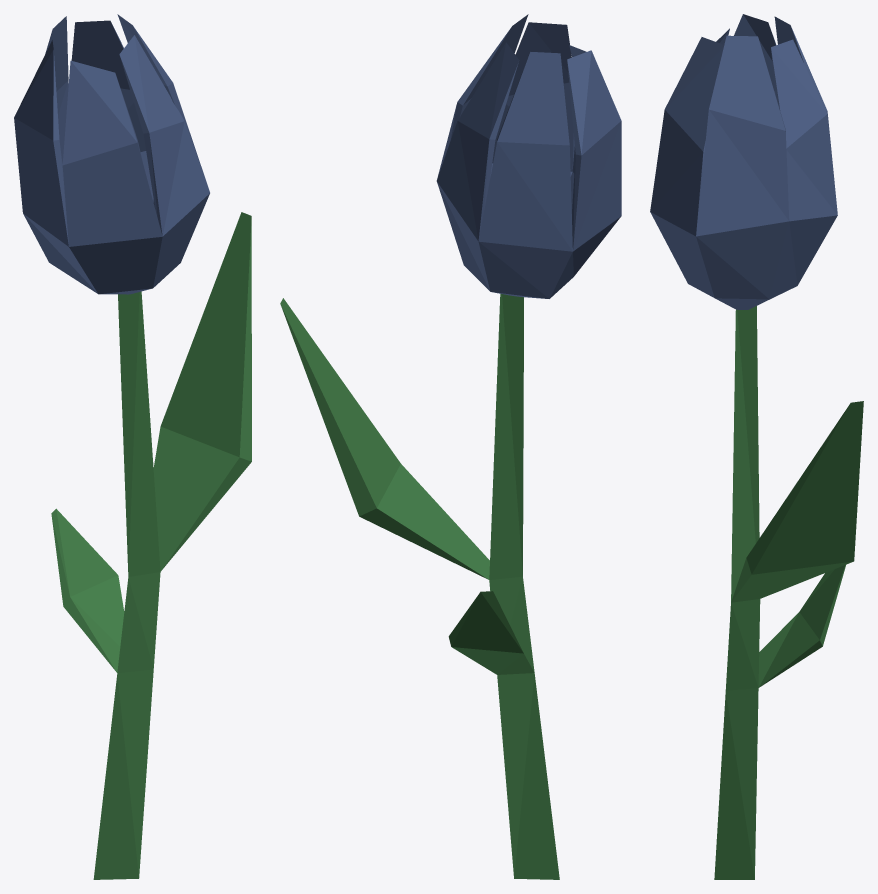
The model's file is Tulip_1_Blue Asia.fbx.
3 renders of one model, left to right at view 1: azimuth 30°, elevation 25°; view 2: azimuth 150°, elevation 25°; view 3: azimuth 270°, elevation 25°, orthographic.
Parts seen in each view (by area): view 1: Tulip_1_Blue; view 2: Tulip_1_Blue; view 3: Tulip_1_Blue.
Boxes of the visible parts, x1,y1,x2,y2 form: Tulip_1_Blue: (14, 14, 251, 879); Tulip_1_Blue: (280, 14, 621, 879); Tulip_1_Blue: (650, 14, 863, 879).
Bounding box in the file's own units: 0.1144 × 0.3473 × 0.0797.
